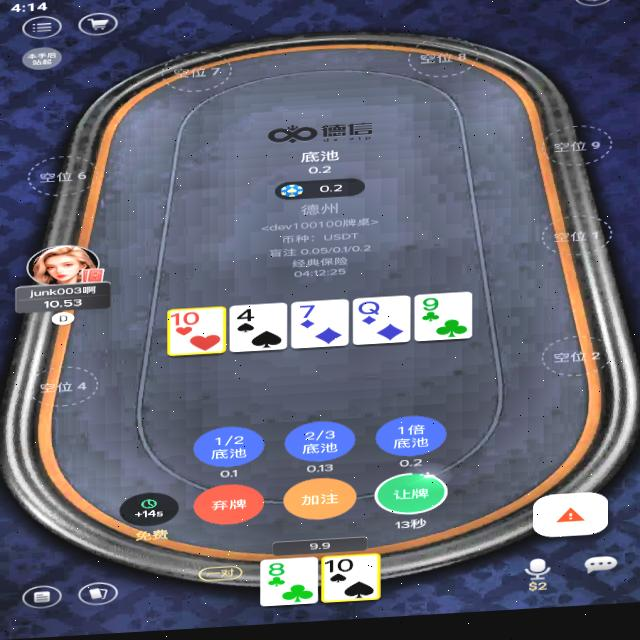10h: (168, 314, 202, 329)
10s: (323, 562, 357, 578)
4s: (234, 308, 258, 327)
7f: (296, 306, 318, 324)
8m: (266, 563, 286, 581)
9m: (418, 301, 441, 317)
Qf: (357, 304, 382, 322)
